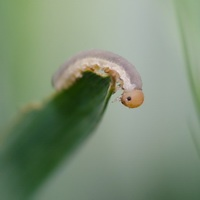insect: (0, 49, 143, 199), (52, 49, 143, 107)
